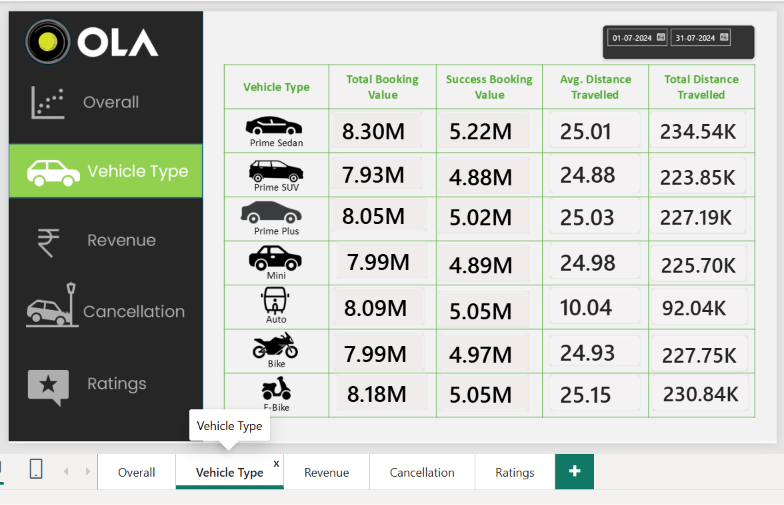

The dashboard page shown, as its layout file describes it:
{"tool":"powerbi","page":{"name":"Vehicle Type","canvas":[1280,720],"ordinal":1},"visuals":[{"type":"actionButton","box":[1.7,338.3,326.1,92.3],"z":0},{"type":"actionButton","box":[0,450.1,326.1,92.3],"z":1000},{"type":"actionButton","box":[10,460.1,326.1,92.3],"z":2000},{"type":"actionButton","box":[1.6,474,326.1,92.3],"z":3000},{"type":"actionButton","box":[1.6,572.6,326.1,92.3],"z":4000},{"type":"actionButton","box":[1.7,573.3,326.1,92.3],"z":5000},{"type":"actionButton","box":[0,103.3,326.1,92.3],"z":6000},{"type":"cardVisual","fields":{"Data":["Sum(July.Booking_Value)"]},"box":[538.6,166.3,151.2,60.5],"z":7000},{"type":"cardVisual","fields":{"Data":["Sum(July.Booking_Value)"]},"box":[538.6,243.8,151.2,52.9],"z":8000},{"type":"cardVisual","fields":{"Data":["Sum(July.Booking_Value)"]},"box":[538.6,309.9,158.7,56.7],"z":9000},{"type":"cardVisual","fields":{"Data":["Sum(July.Booking_Value)"]},"box":[546.1,383.6,151.1,62],"z":10000},{"type":"cardVisual","fields":{"Data":["Sum(July.Booking_Value)"]},"box":[542.4,459.2,151.1,62],"z":11000},{"type":"cardVisual","fields":{"Data":["Sum(July.Booking_Value)"]},"box":[542.4,536.7,151.1,62],"z":12000},{"type":"cardVisual","fields":{"Data":["Sum(July.Booking_Value)"]},"box":[546.1,602.8,151.1,62],"z":13000},{"type":"cardVisual","fields":{"Data":["Sum(July.Booking_Value)"]},"box":[716.2,166.3,151.2,60.5],"z":14000},{"type":"cardVisual","fields":{"Data":["Sum(July.Booking_Value)"]},"box":[716.2,243.8,151.2,60.5],"z":15000},{"type":"cardVisual","fields":{"Data":["Sum(July.Booking_Value)"]},"box":[716.2,309.9,151.2,60.5],"z":16000},{"type":"cardVisual","fields":{"Data":["Sum(July.Booking_Value)"]},"box":[716.2,389.3,151.2,60.5],"z":17000},{"type":"cardVisual","fields":{"Data":["Sum(July.Booking_Value)"]},"box":[716.2,466.8,151.2,60.5],"z":18000},{"type":"cardVisual","fields":{"Data":["Sum(July.Booking_Value)"]},"box":[716.2,538.6,151.2,60.5],"z":19000},{"type":"cardVisual","fields":{"Data":["Sum(July.Booking_Value)"]},"box":[716.2,604.7,151.2,60.5],"z":20000},{"type":"cardVisual","fields":{"Data":["Avg(July.Ride_Distance)"]},"box":[901.4,166.3,151.2,60.5],"z":21000},{"type":"cardVisual","fields":{"Data":["Avg(July.Ride_Distance)"]},"box":[901.4,236.2,151.2,66.1],"z":22000},{"type":"cardVisual","fields":{"Data":["Avg(July.Ride_Distance)"]},"box":[901.4,309.9,151.2,60.5],"z":23000},{"type":"cardVisual","fields":{"Data":["Avg(July.Ride_Distance)"]},"box":[901.4,385.5,151.2,60.5],"z":24000},{"type":"cardVisual","fields":{"Data":["Avg(July.Ride_Distance)"]},"box":[901.4,459.2,151.2,60.5],"z":25000},{"type":"cardVisual","fields":{"Data":["Avg(July.Ride_Distance)"]},"box":[901.4,540.5,151.2,51],"z":26000},{"type":"cardVisual","fields":{"Data":["Avg(July.Ride_Distance)"]},"box":[901.4,604.7,151.2,60.5],"z":27000},{"type":"cardVisual","fields":{"Data":["Sum(July.Ride_Distance)"]},"box":[1068.9,167,160.7,60.4],"z":28000},{"type":"cardVisual","fields":{"Data":["Sum(July.Ride_Distance)"]},"box":[1068.9,243.4,160.7,60.4],"z":29000},{"type":"cardVisual","fields":{"Data":["Sum(July.Ride_Distance)"]},"box":[1068.9,310.2,160.7,60.4],"z":30000},{"type":"cardVisual","fields":{"Data":["Sum(July.Ride_Distance)"]},"box":[1070.5,389.7,160.7,60.4],"z":31000},{"type":"cardVisual","fields":{"Data":["Sum(July.Ride_Distance)"]},"box":[1072.1,461.3,160.7,60.4],"z":32000},{"type":"cardVisual","fields":{"Data":["Sum(July.Ride_Distance)"]},"box":[1072.1,539.2,160.7,60.4],"z":33000},{"type":"cardVisual","fields":{"Data":["Sum(July.Ride_Distance)"]},"box":[1073.7,604.4,160.7,60.4],"z":34000},{"type":"slicer","title":"Date","fields":{"Values":["July.Date"]},"box":[910.9,15.1,323.2,60.5],"z":35000}]}

Visuals, with their boxes on the page's 1280x720 design canvas (x1, y1, x2, y2). These are canvas units, not pixel positions in the 784x505 screenshot, which may show the page scaled, cropped or inside an application window:
actionButton: Rect(2, 338, 328, 431)
actionButton: Rect(0, 450, 326, 542)
actionButton: Rect(10, 460, 336, 552)
actionButton: Rect(2, 474, 328, 566)
actionButton: Rect(2, 573, 328, 665)
actionButton: Rect(2, 573, 328, 666)
actionButton: Rect(0, 103, 326, 196)
cardVisual - Sum(July.Booking_Value): Rect(539, 166, 690, 227)
cardVisual - Sum(July.Booking_Value): Rect(539, 244, 690, 297)
cardVisual - Sum(July.Booking_Value): Rect(539, 310, 697, 367)
cardVisual - Sum(July.Booking_Value): Rect(546, 384, 697, 446)
cardVisual - Sum(July.Booking_Value): Rect(542, 459, 694, 521)
cardVisual - Sum(July.Booking_Value): Rect(542, 537, 694, 599)
cardVisual - Sum(July.Booking_Value): Rect(546, 603, 697, 665)
cardVisual - Sum(July.Booking_Value): Rect(716, 166, 867, 227)
cardVisual - Sum(July.Booking_Value): Rect(716, 244, 867, 304)
cardVisual - Sum(July.Booking_Value): Rect(716, 310, 867, 370)
cardVisual - Sum(July.Booking_Value): Rect(716, 389, 867, 450)
cardVisual - Sum(July.Booking_Value): Rect(716, 467, 867, 527)
cardVisual - Sum(July.Booking_Value): Rect(716, 539, 867, 599)
cardVisual - Sum(July.Booking_Value): Rect(716, 605, 867, 665)
cardVisual - Avg(July.Ride_Distance): Rect(901, 166, 1053, 227)
cardVisual - Avg(July.Ride_Distance): Rect(901, 236, 1053, 302)
cardVisual - Avg(July.Ride_Distance): Rect(901, 310, 1053, 370)
cardVisual - Avg(July.Ride_Distance): Rect(901, 386, 1053, 446)
cardVisual - Avg(July.Ride_Distance): Rect(901, 459, 1053, 520)
cardVisual - Avg(July.Ride_Distance): Rect(901, 540, 1053, 592)
cardVisual - Avg(July.Ride_Distance): Rect(901, 605, 1053, 665)
cardVisual - Sum(July.Ride_Distance): Rect(1069, 167, 1230, 227)
cardVisual - Sum(July.Ride_Distance): Rect(1069, 243, 1230, 304)
cardVisual - Sum(July.Ride_Distance): Rect(1069, 310, 1230, 371)
cardVisual - Sum(July.Ride_Distance): Rect(1070, 390, 1231, 450)
cardVisual - Sum(July.Ride_Distance): Rect(1072, 461, 1233, 522)
cardVisual - Sum(July.Ride_Distance): Rect(1072, 539, 1233, 600)
cardVisual - Sum(July.Ride_Distance): Rect(1074, 604, 1234, 665)
"Date" slicer: Rect(911, 15, 1234, 76)
